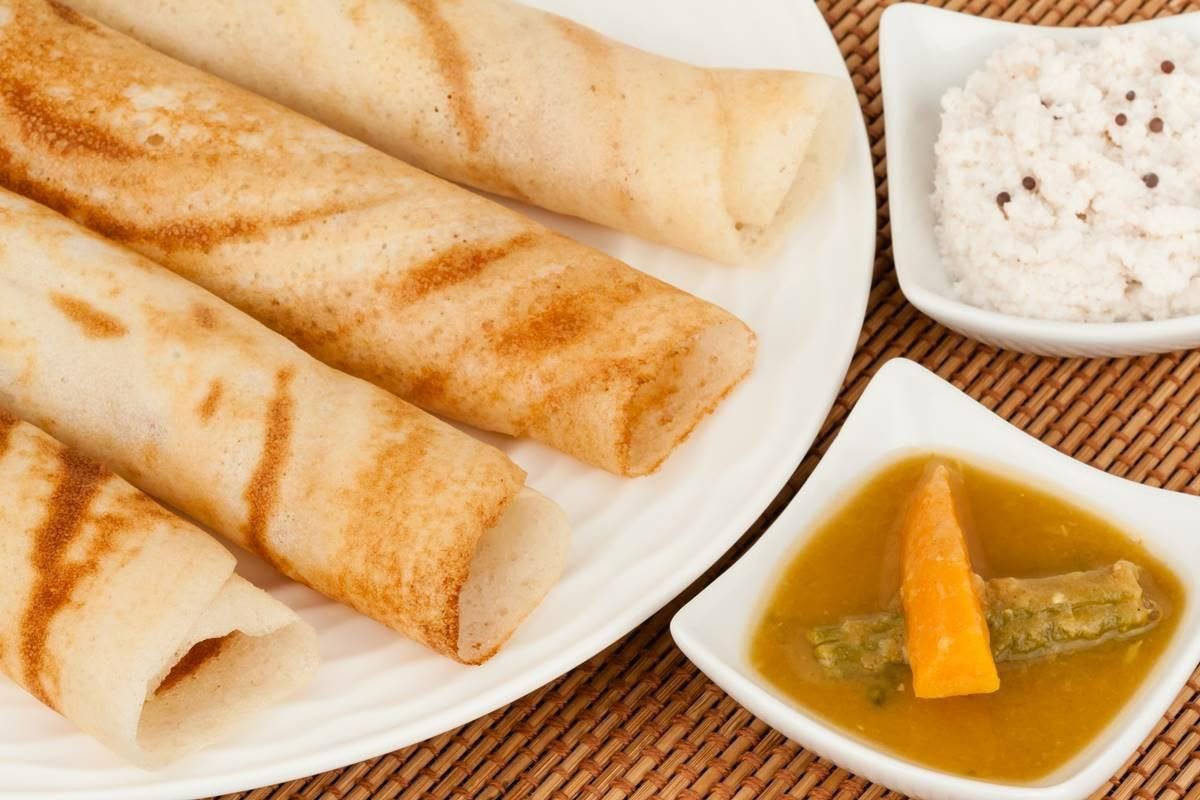CoconutChutney: (934, 37, 1200, 323)
Dosa: (1, 4, 760, 482), (0, 187, 574, 668), (73, 0, 848, 265), (0, 408, 322, 769)
